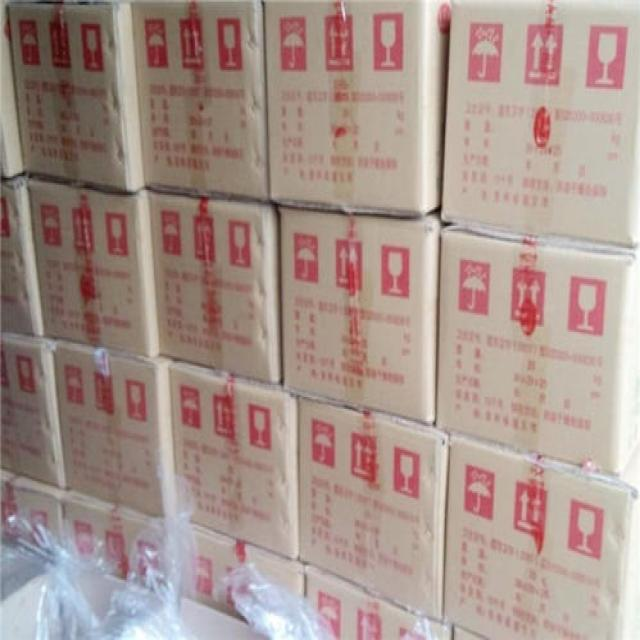Carton: (263, 2, 639, 469), (167, 205, 437, 560), (24, 183, 177, 527), (445, 440, 635, 638), (299, 399, 445, 614), (132, 2, 269, 195), (3, 0, 141, 187), (149, 190, 276, 385)
